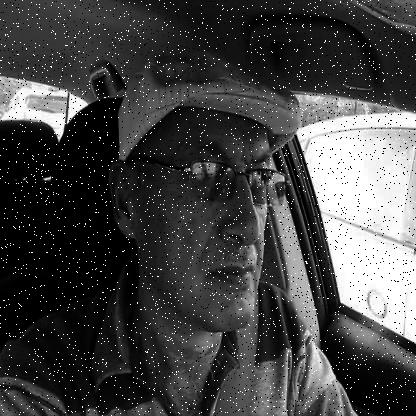seatbelt: (97, 32, 295, 416)
